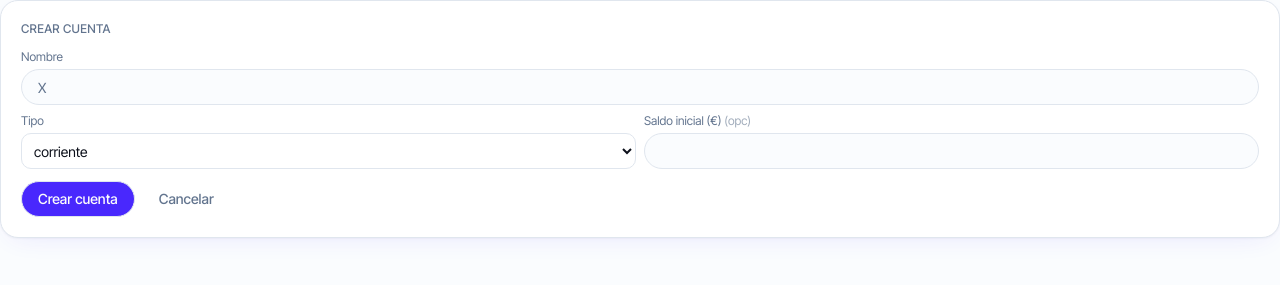
it: HerramientaCard › muestra el error si la acción falla
Click the button "Crear cuenta" at (78, 199), box [21,181,135,217]
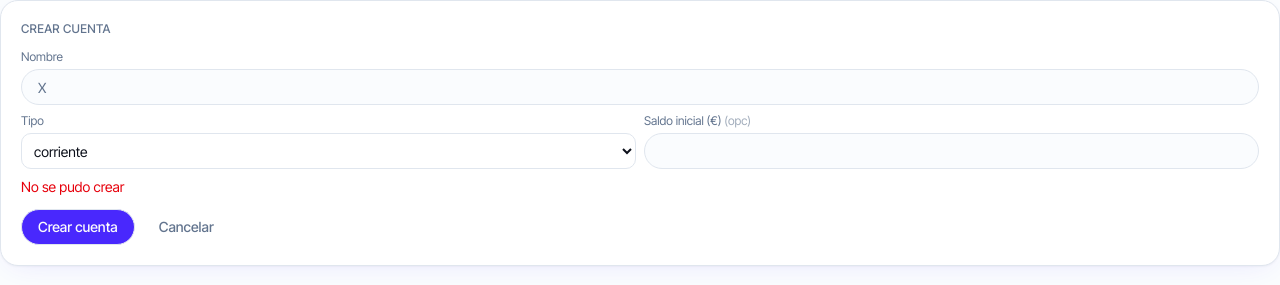
Result: the text "No se pudo crear" is shown at [21,178,124,195]
